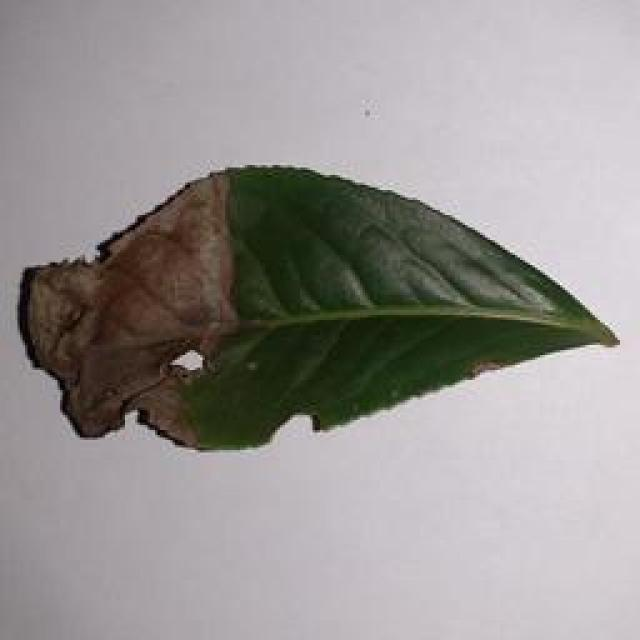Brown Blight: (10, 154, 633, 460)
